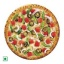olives: (29, 20, 37, 29), (34, 47, 43, 54), (42, 25, 49, 34), (8, 37, 16, 43), (24, 41, 30, 49), (34, 11, 42, 17)
pepper: (9, 23, 23, 35), (11, 13, 19, 21)
pepperoni: (21, 23, 28, 32), (32, 40, 40, 47), (44, 37, 52, 44), (19, 40, 26, 46), (18, 17, 22, 23)
pizza: (8, 7, 56, 58)
